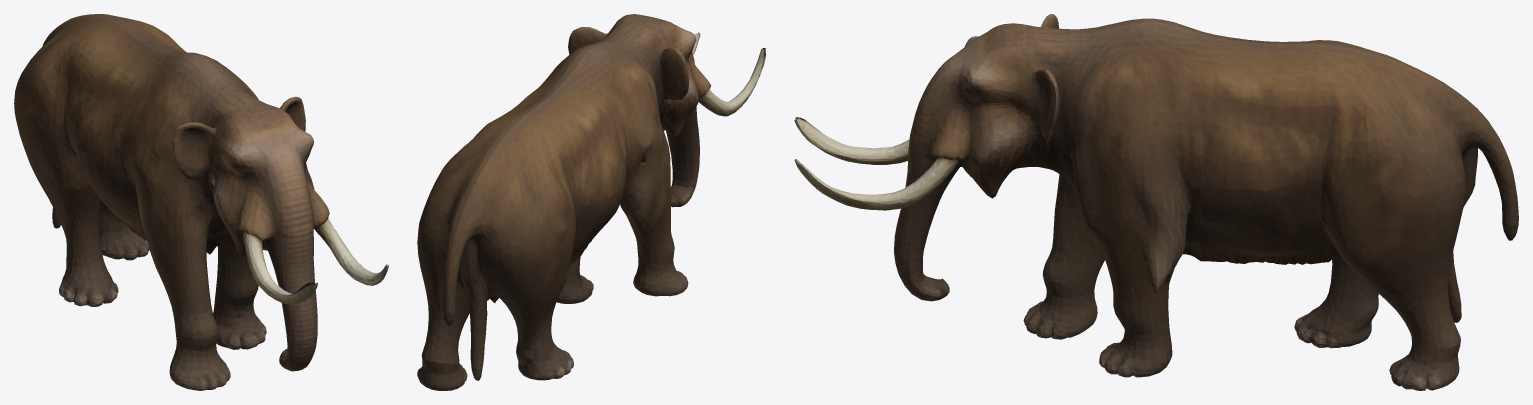
3 renders of one model, left to right at view 1: azimuth 30°, elevation 25°; view 2: azimuth 150°, elevation 25°; view 3: azimuth 270°, elevation 25°, orthographic. The views are drawn at different scales.
Visible parts, largest first — view 1: world; view 2: world; view 3: world.
Part boxes in pixels (left/top/right/bottom): world: left=14, top=14, right=388, bottom=390; world: left=417, top=14, right=765, bottom=390; world: left=794, top=14, right=1518, bottom=390.
Size of the model in its own units: 1.42 by 2.75 by 5.4.
4 materials, 4 textured.
